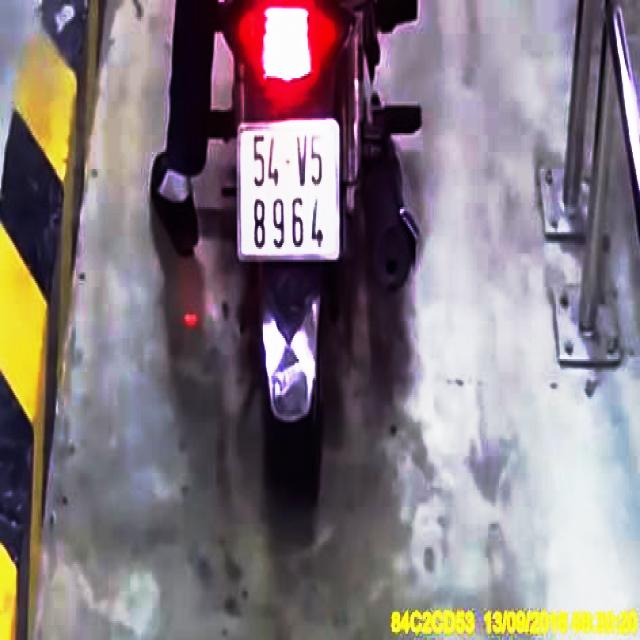license_plate: (238, 119, 342, 259)
